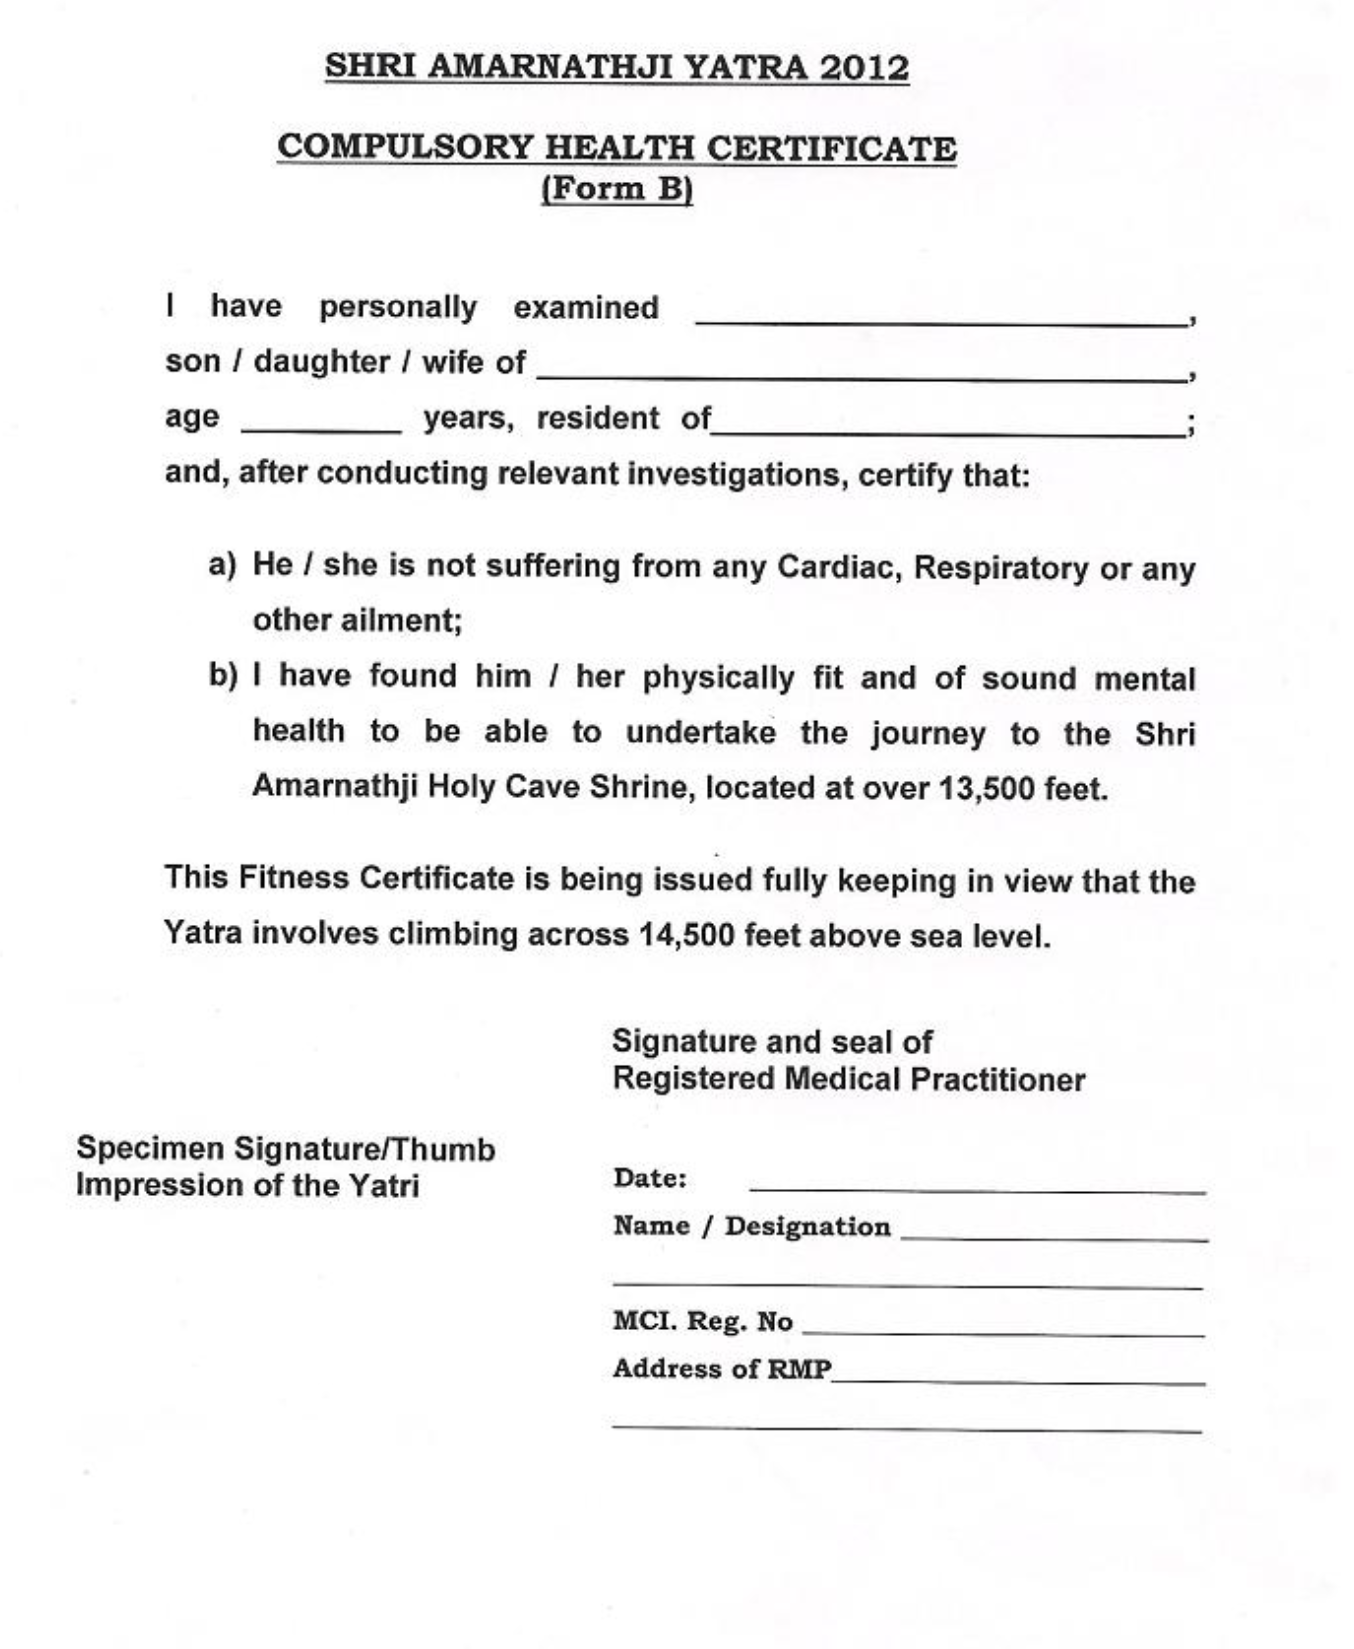textline: (590, 1397, 1212, 1461), (672, 284, 1201, 344), (533, 345, 1203, 390), (728, 1144, 1212, 1204), (598, 1268, 1216, 1309), (702, 407, 1205, 453), (794, 1307, 1214, 1353), (826, 1364, 1223, 1402), (884, 1219, 1223, 1255), (227, 410, 424, 442)
